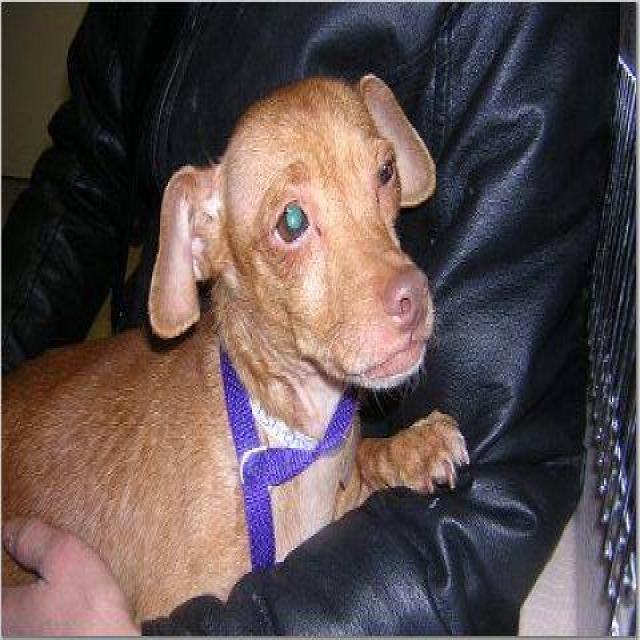dog: (0, 70, 471, 632)
